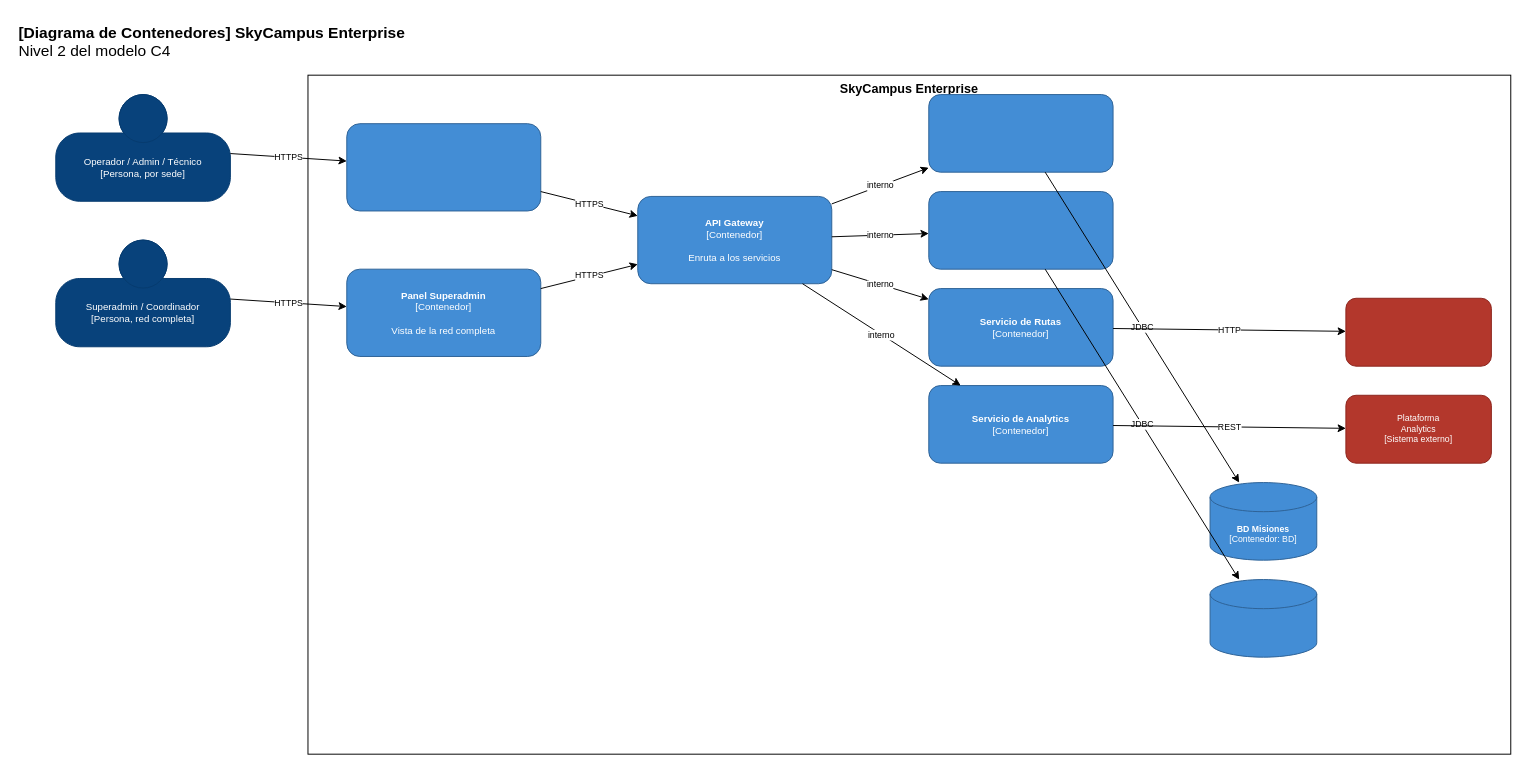
Image size: 1528x771. Some labels were removed from this diagram. The shapes that lost their labels are listed below. From the top down, each one's box as (x1, y1, x2, y2) in pixels, then its label:
(928, 94, 1113, 172): Servicio de Misiones [Contenedor]
(346, 123, 541, 211): App Web Operadores [Contenedor: por sede] Panel de flota y misiones
(928, 191, 1113, 269): Servicio de Flota [Contenedor]
(1345, 297, 1491, 366): API Clima / Aerocivil [Sistema externo]
(1209, 579, 1317, 657): BD Flota [Contenedor: BD]
